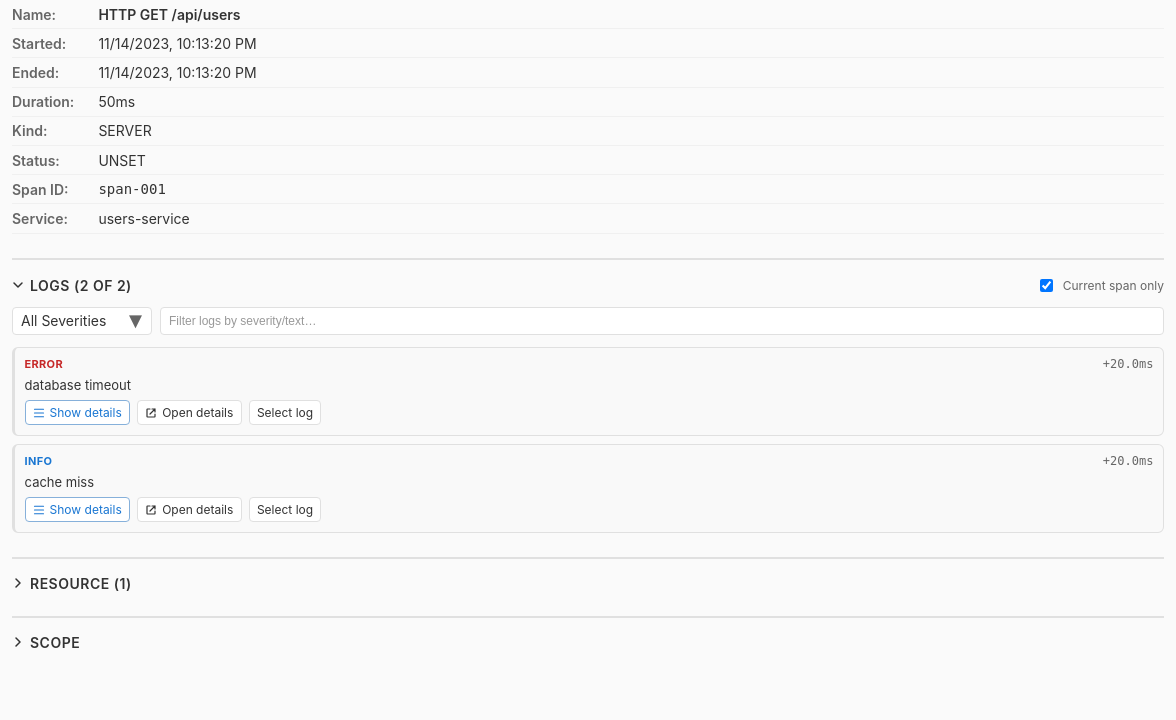
Test: SpanDetailsSidebar › filters correlated logs by text
Type "cache" into the field with placeholder "Filter logs by severity/text…". click: coordinates (662, 321)
box: [160,306,1164,335]
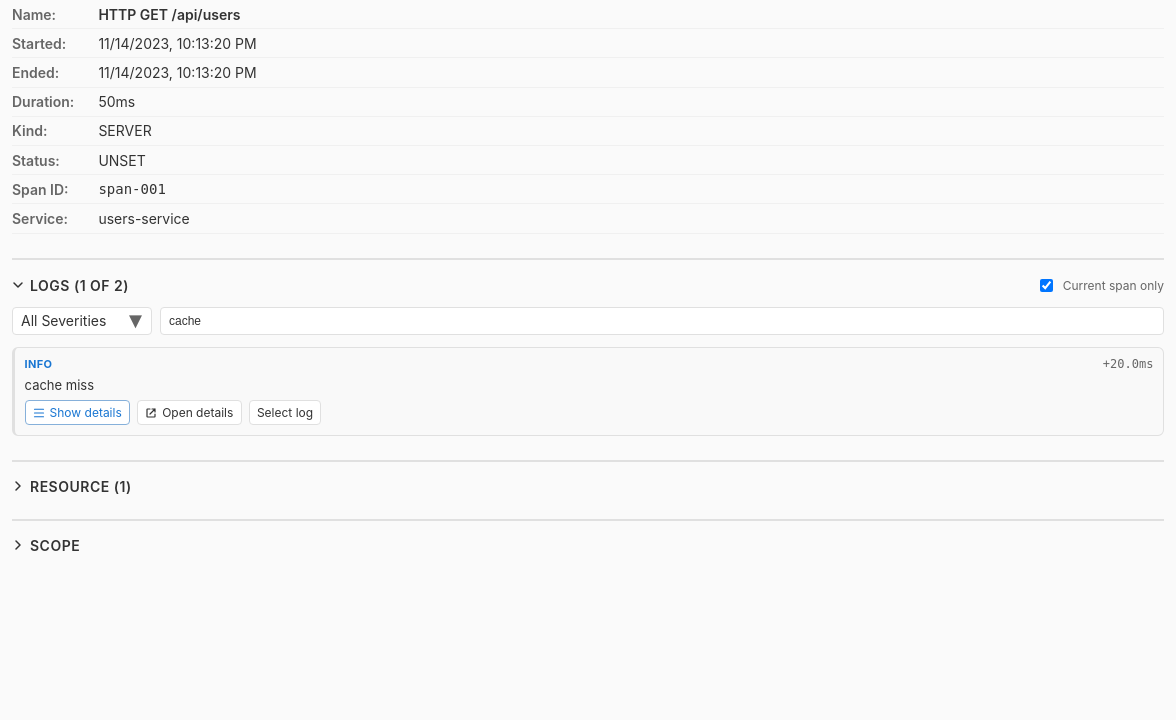
Expected: the text "database timeout" is gone
Expected: the text "cache miss" is shown, [25,377,94,393]
